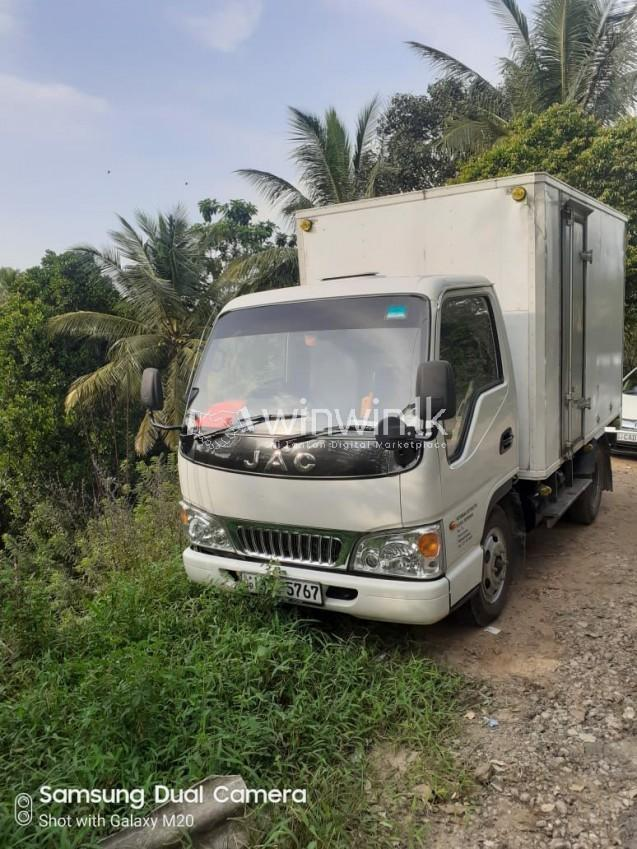truck: (141, 173, 628, 628)
